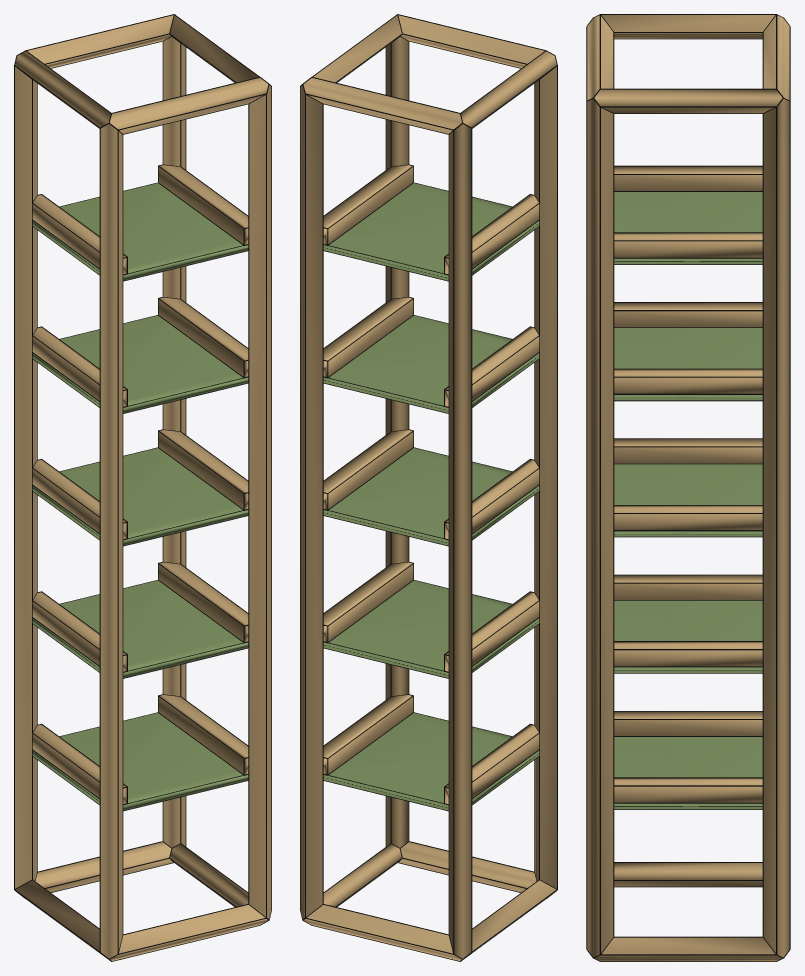
File: 015-bibliotheque.glb
3 renders of one model, left to right at view 1: azimuth 30°, elevation 25°; view 2: azimuth 150°, elevation 25°; view 3: azimuth 270°, elevation 25°, orthographic. The views are drawn at different scales.
Visible parts, largest first — view 1: arete-Z0, arete-Z1, arete-Z2, tablette-plate-mod-0, tablette-plate-mod-3, tablette-plate-mod-4, tablette-plate-mod-1, tablette-plate-mod-2, arete-Z3, arete-wire-Z0, arete-X2, arete-X0 (+22 smaller); view 2: arete-Z2, arete-Z3, arete-Z0, tablette-plate-mod-0, tablette-plate-mod-3, tablette-plate-mod-4, tablette-plate-mod-1, tablette-plate-mod-2, arete-Z1, arete-wire-Z2, arete-X3, arete-X1 (+22 smaller); view 3: arete-Z1, arete-Z3, tablette-plate-mod-0, tablette-plate-mod-4, tablette-plate-mod-1, tablette-plate-mod-2, tablette-plate-mod-3, arete-wire-Z1, arete-wire-Z3, arete-Y3, arete-Y1, tablette-traverse-right-mod-0 (+27 smaller).
Part boxes in pixels (x1,y1,x2,y2): arete-Z0: (100,124,122,958); arete-Z1: (249,85,271,918); arete-Z2: (15,66,36,888); tablette-plate-mod-0: (32,713,248,810); tablette-plate-mod-3: (32,315,248,413); tablette-plate-mod-4: (32,183,248,280); tablette-plate-mod-1: (32,580,248,677); tablette-plate-mod-2: (32,448,248,545); arete-Z3: (163,37,185,847); arete-wire-Z0: (99,123,123,954); arete-X2: (110,78,268,133); arete-X0: (110,905,267,960); arete-Z2: (449,124,471,958); arete-Z3: (300,85,322,918); arete-Z0: (535,66,556,888); tablette-plate-mod-0: (323,713,539,810); tablette-plate-mod-3: (323,315,539,413); tablette-plate-mod-4: (323,183,539,280); tablette-plate-mod-1: (323,580,539,677); tablette-plate-mod-2: (323,448,539,545); arete-Z1: (386,37,408,847); arete-wire-Z2: (448,123,472,954); arete-X3: (303,78,461,133); arete-X1: (304,905,461,960); arete-Z1: (587,99,613,957); arete-Z3: (763,99,789,957); tablette-plate-mod-0: (614,737,762,809); tablette-plate-mod-4: (614,192,762,264); tablette-plate-mod-1: (614,600,762,672); tablette-plate-mod-2: (614,464,762,536); tablette-plate-mod-3: (614,328,762,400); arete-wire-Z1: (586,98,614,954); arete-wire-Z3: (762,101,790,954); arete-Y3: (594,89,782,113); arete-Y1: (595,937,781,961); tablette-traverse-right-mod-0: (614,778,762,802).
Size of the model in its own units: 0.4309 by 2.03 by 0.4309.
